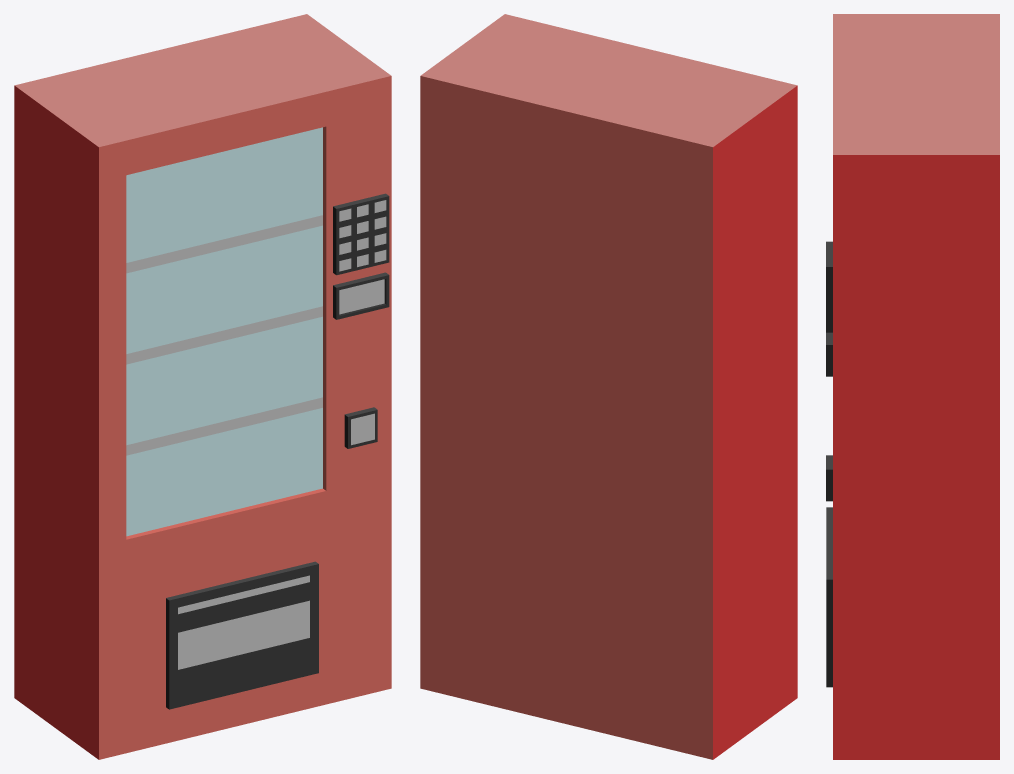
File: vending_machine.fbx
The picture shows the model from 3 angles, left to right: view 1: azimuth 30°, elevation 25°; view 2: azimuth 150°, elevation 25°; view 3: azimuth 270°, elevation 25°; orthographic projection.
Parts seen in each view (by area): view 1: vending_machine; view 2: vending_machine; view 3: vending_machine.
Boxes of the visible parts, x1=… form: vending_machine: x1=14, y1=14, x2=391, y2=759; vending_machine: x1=420, y1=14, x2=797, y2=759; vending_machine: x1=826, y1=14, x2=999, y2=759.
Bounding box in the file's own units: 100 × 200 × 52.08.
